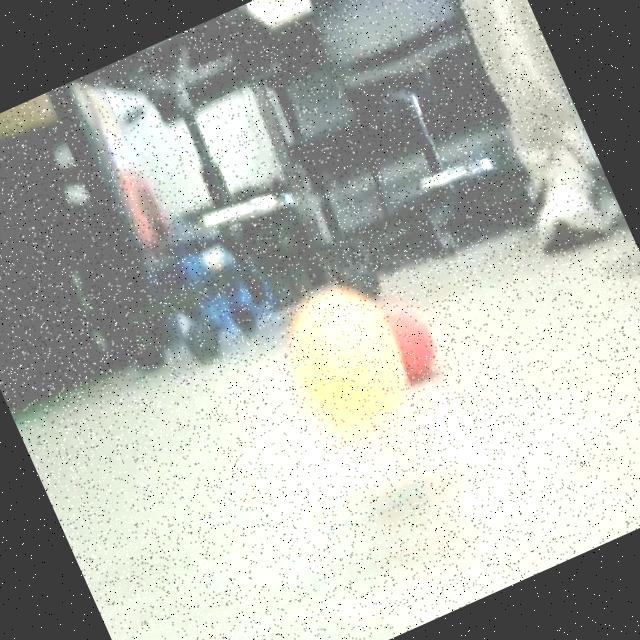ping-pong-ball: (265, 269, 420, 444), (373, 291, 448, 384)
